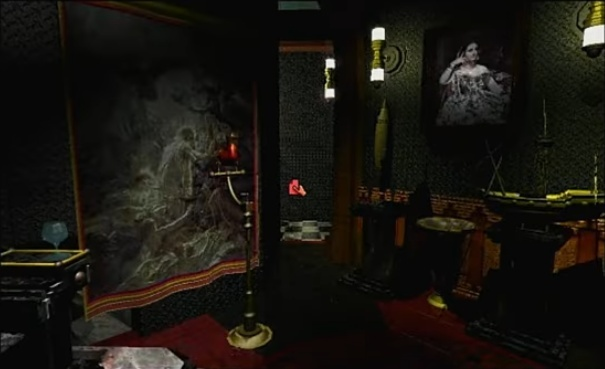Keep: (284, 177, 312, 198)
